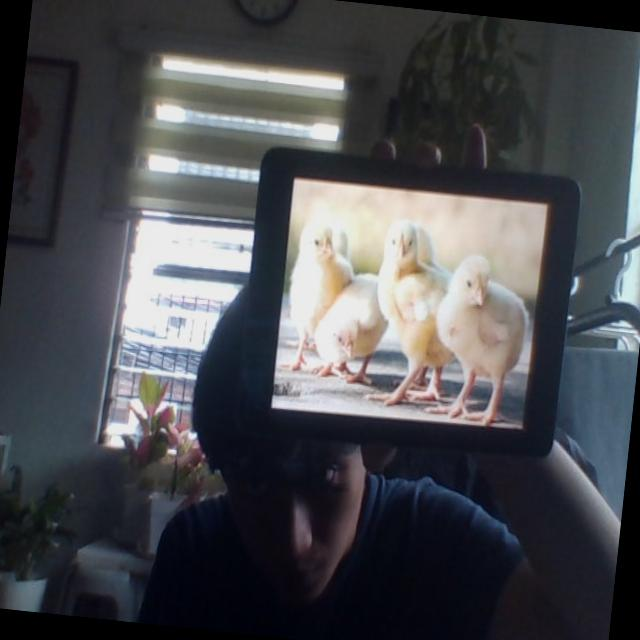Healthy: (425, 246, 534, 424), (362, 218, 462, 405), (288, 217, 349, 323)
Sick: (308, 268, 392, 402)
